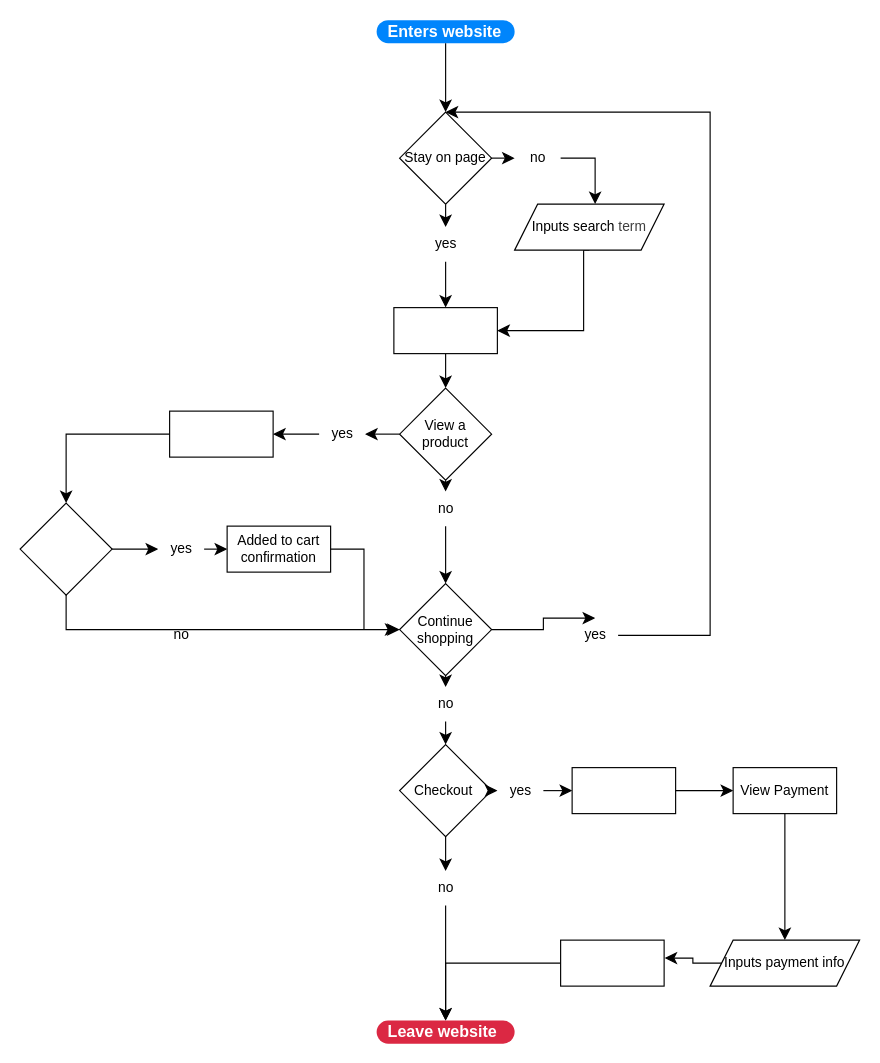
This 880x1063 diagram has some shape labels left out. Here are the shapes that lost their labels. From the top down, the box of each, then its label:
(393, 306, 497, 354): Look at products
(168, 410, 273, 457): Webpage opened
(19, 502, 112, 595): Add to cart
(571, 766, 676, 814): View Cart
(559, 939, 664, 986): Order confirm and email
